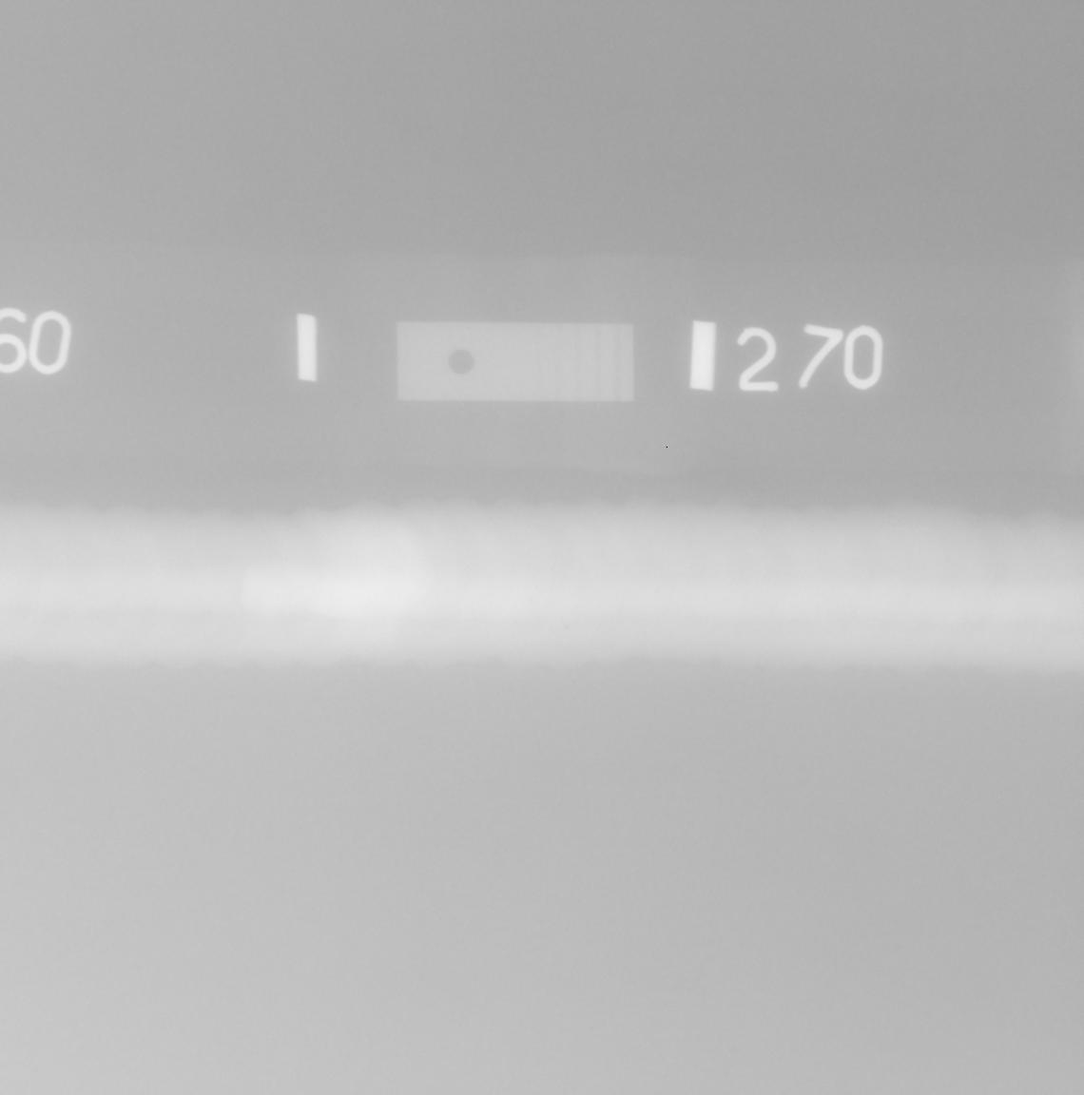Pore/Porosity: (529, 599, 539, 603), (565, 625, 569, 630)
Reference Standard 1: (396, 322, 634, 402)
